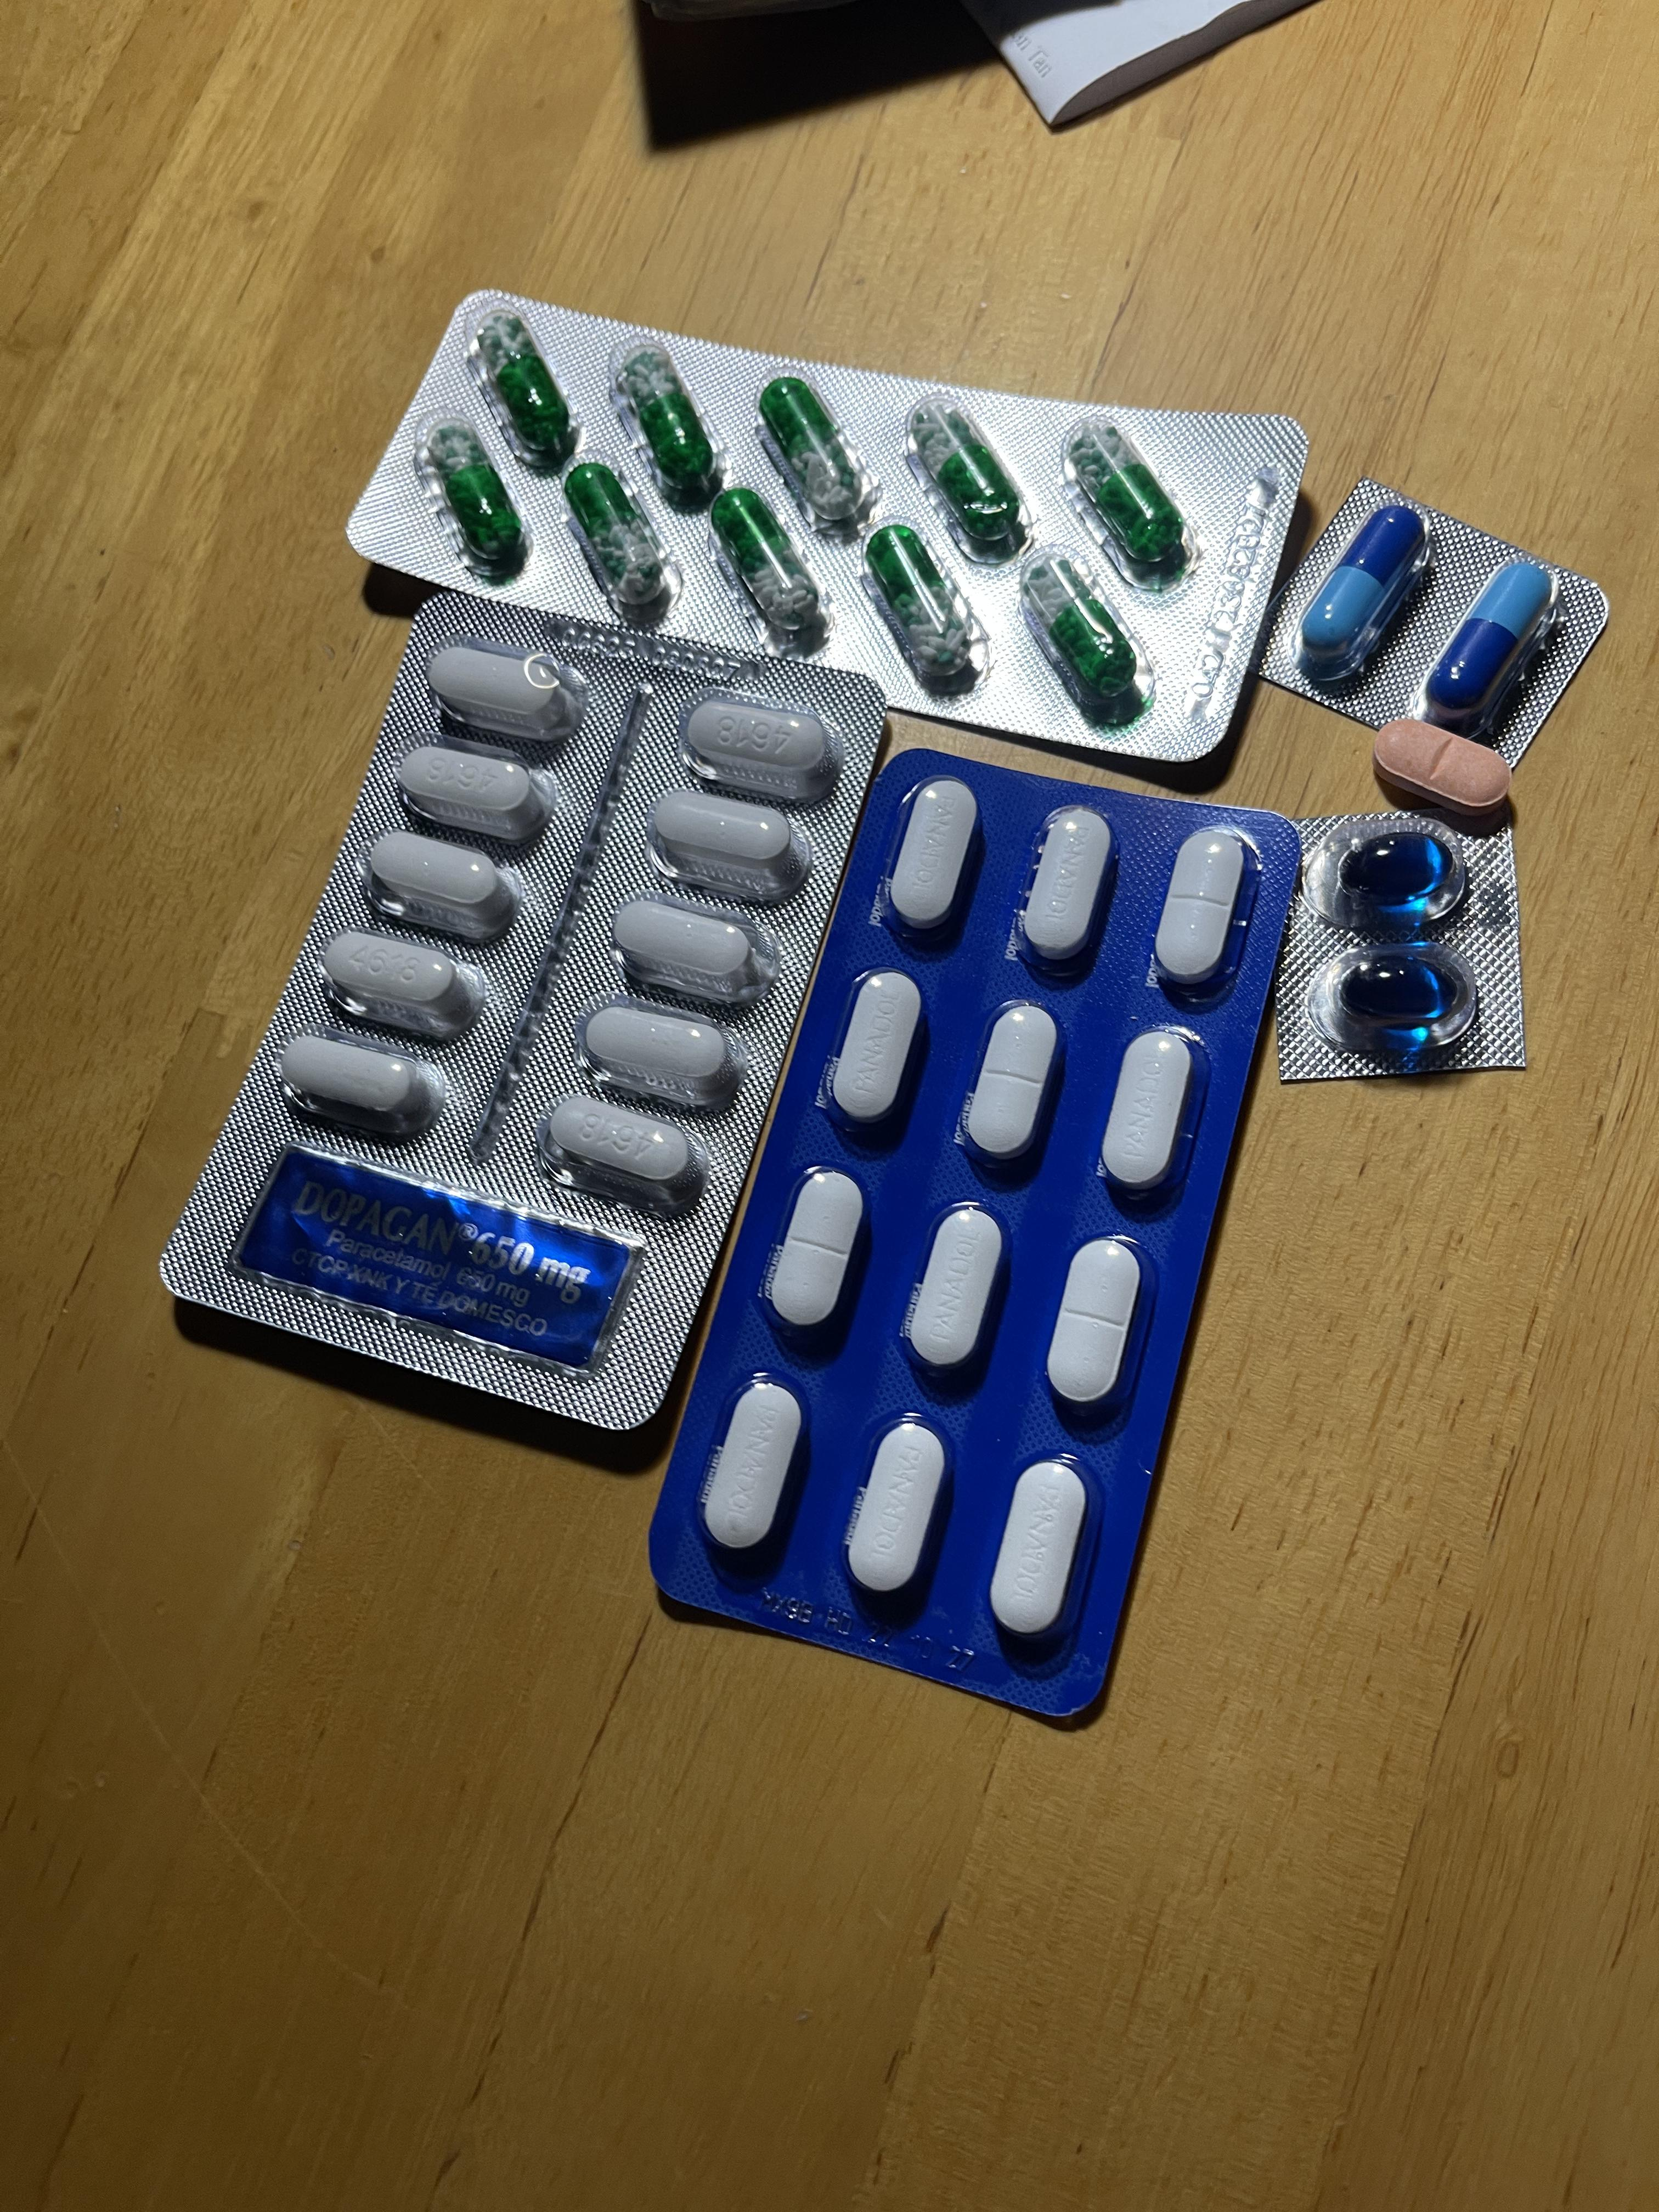Lincomyxin_500mg: (1340, 831, 1448, 909), (1338, 954, 1448, 1024)
Loratadine_10mg: (1371, 712, 1514, 813)
Paracetamol_350mg: (847, 1420, 948, 1599), (702, 1379, 803, 1555), (904, 1205, 1006, 1379), (992, 1461, 1087, 1644), (1047, 1235, 1145, 1411), (962, 1000, 1065, 1165), (767, 1170, 868, 1338), (1100, 1035, 1197, 1204), (1014, 806, 1115, 968), (828, 974, 925, 1139), (1154, 829, 1253, 991), (887, 779, 981, 934)
Paracetamol_500mg: (535, 1094, 708, 1211), (572, 996, 749, 1109), (315, 930, 488, 1038), (279, 1029, 448, 1136), (361, 829, 525, 937), (650, 787, 810, 897), (681, 688, 843, 794), (422, 641, 587, 744), (394, 744, 556, 846), (612, 897, 765, 995)
Paracetamol_650mg: (1023, 547, 1159, 730), (906, 394, 1033, 563), (864, 523, 992, 690), (756, 376, 877, 536), (415, 413, 530, 580), (467, 305, 580, 474), (610, 340, 721, 510), (563, 460, 673, 618), (709, 486, 823, 639), (1070, 423, 1188, 568)
pill: (1424, 563, 1554, 728), (1304, 507, 1425, 671)
